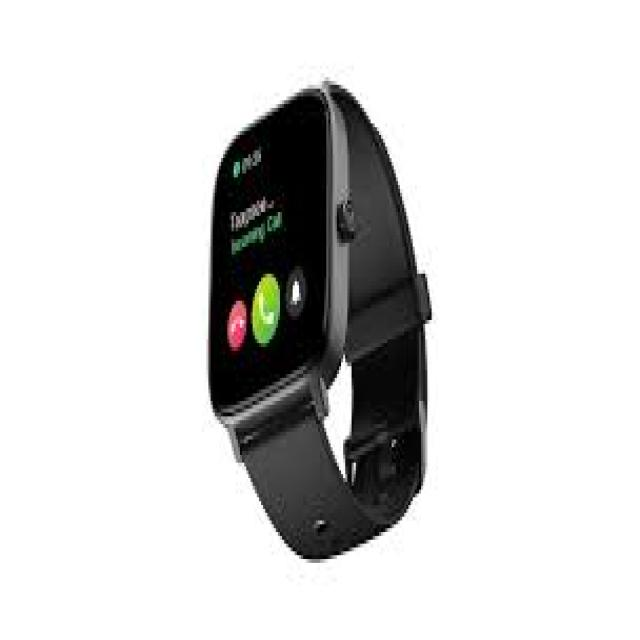objects: (207, 81, 431, 563)
